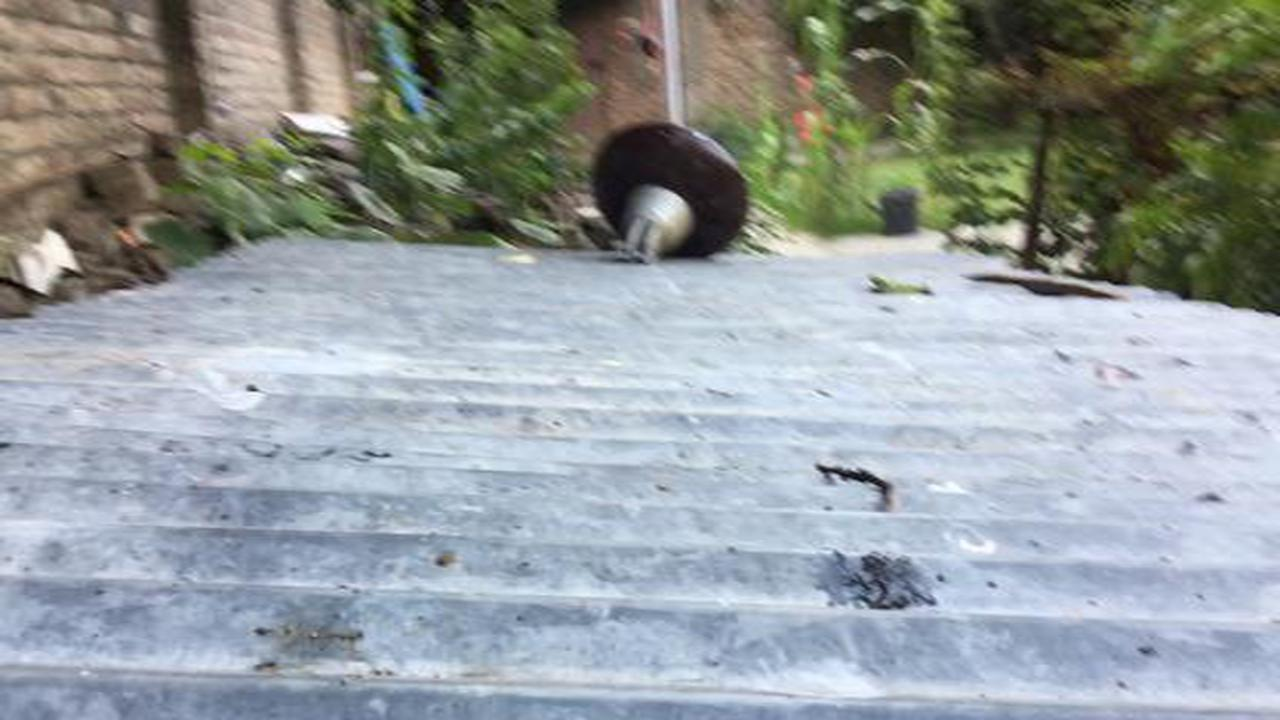insulator_disc: (585, 118, 757, 269)
